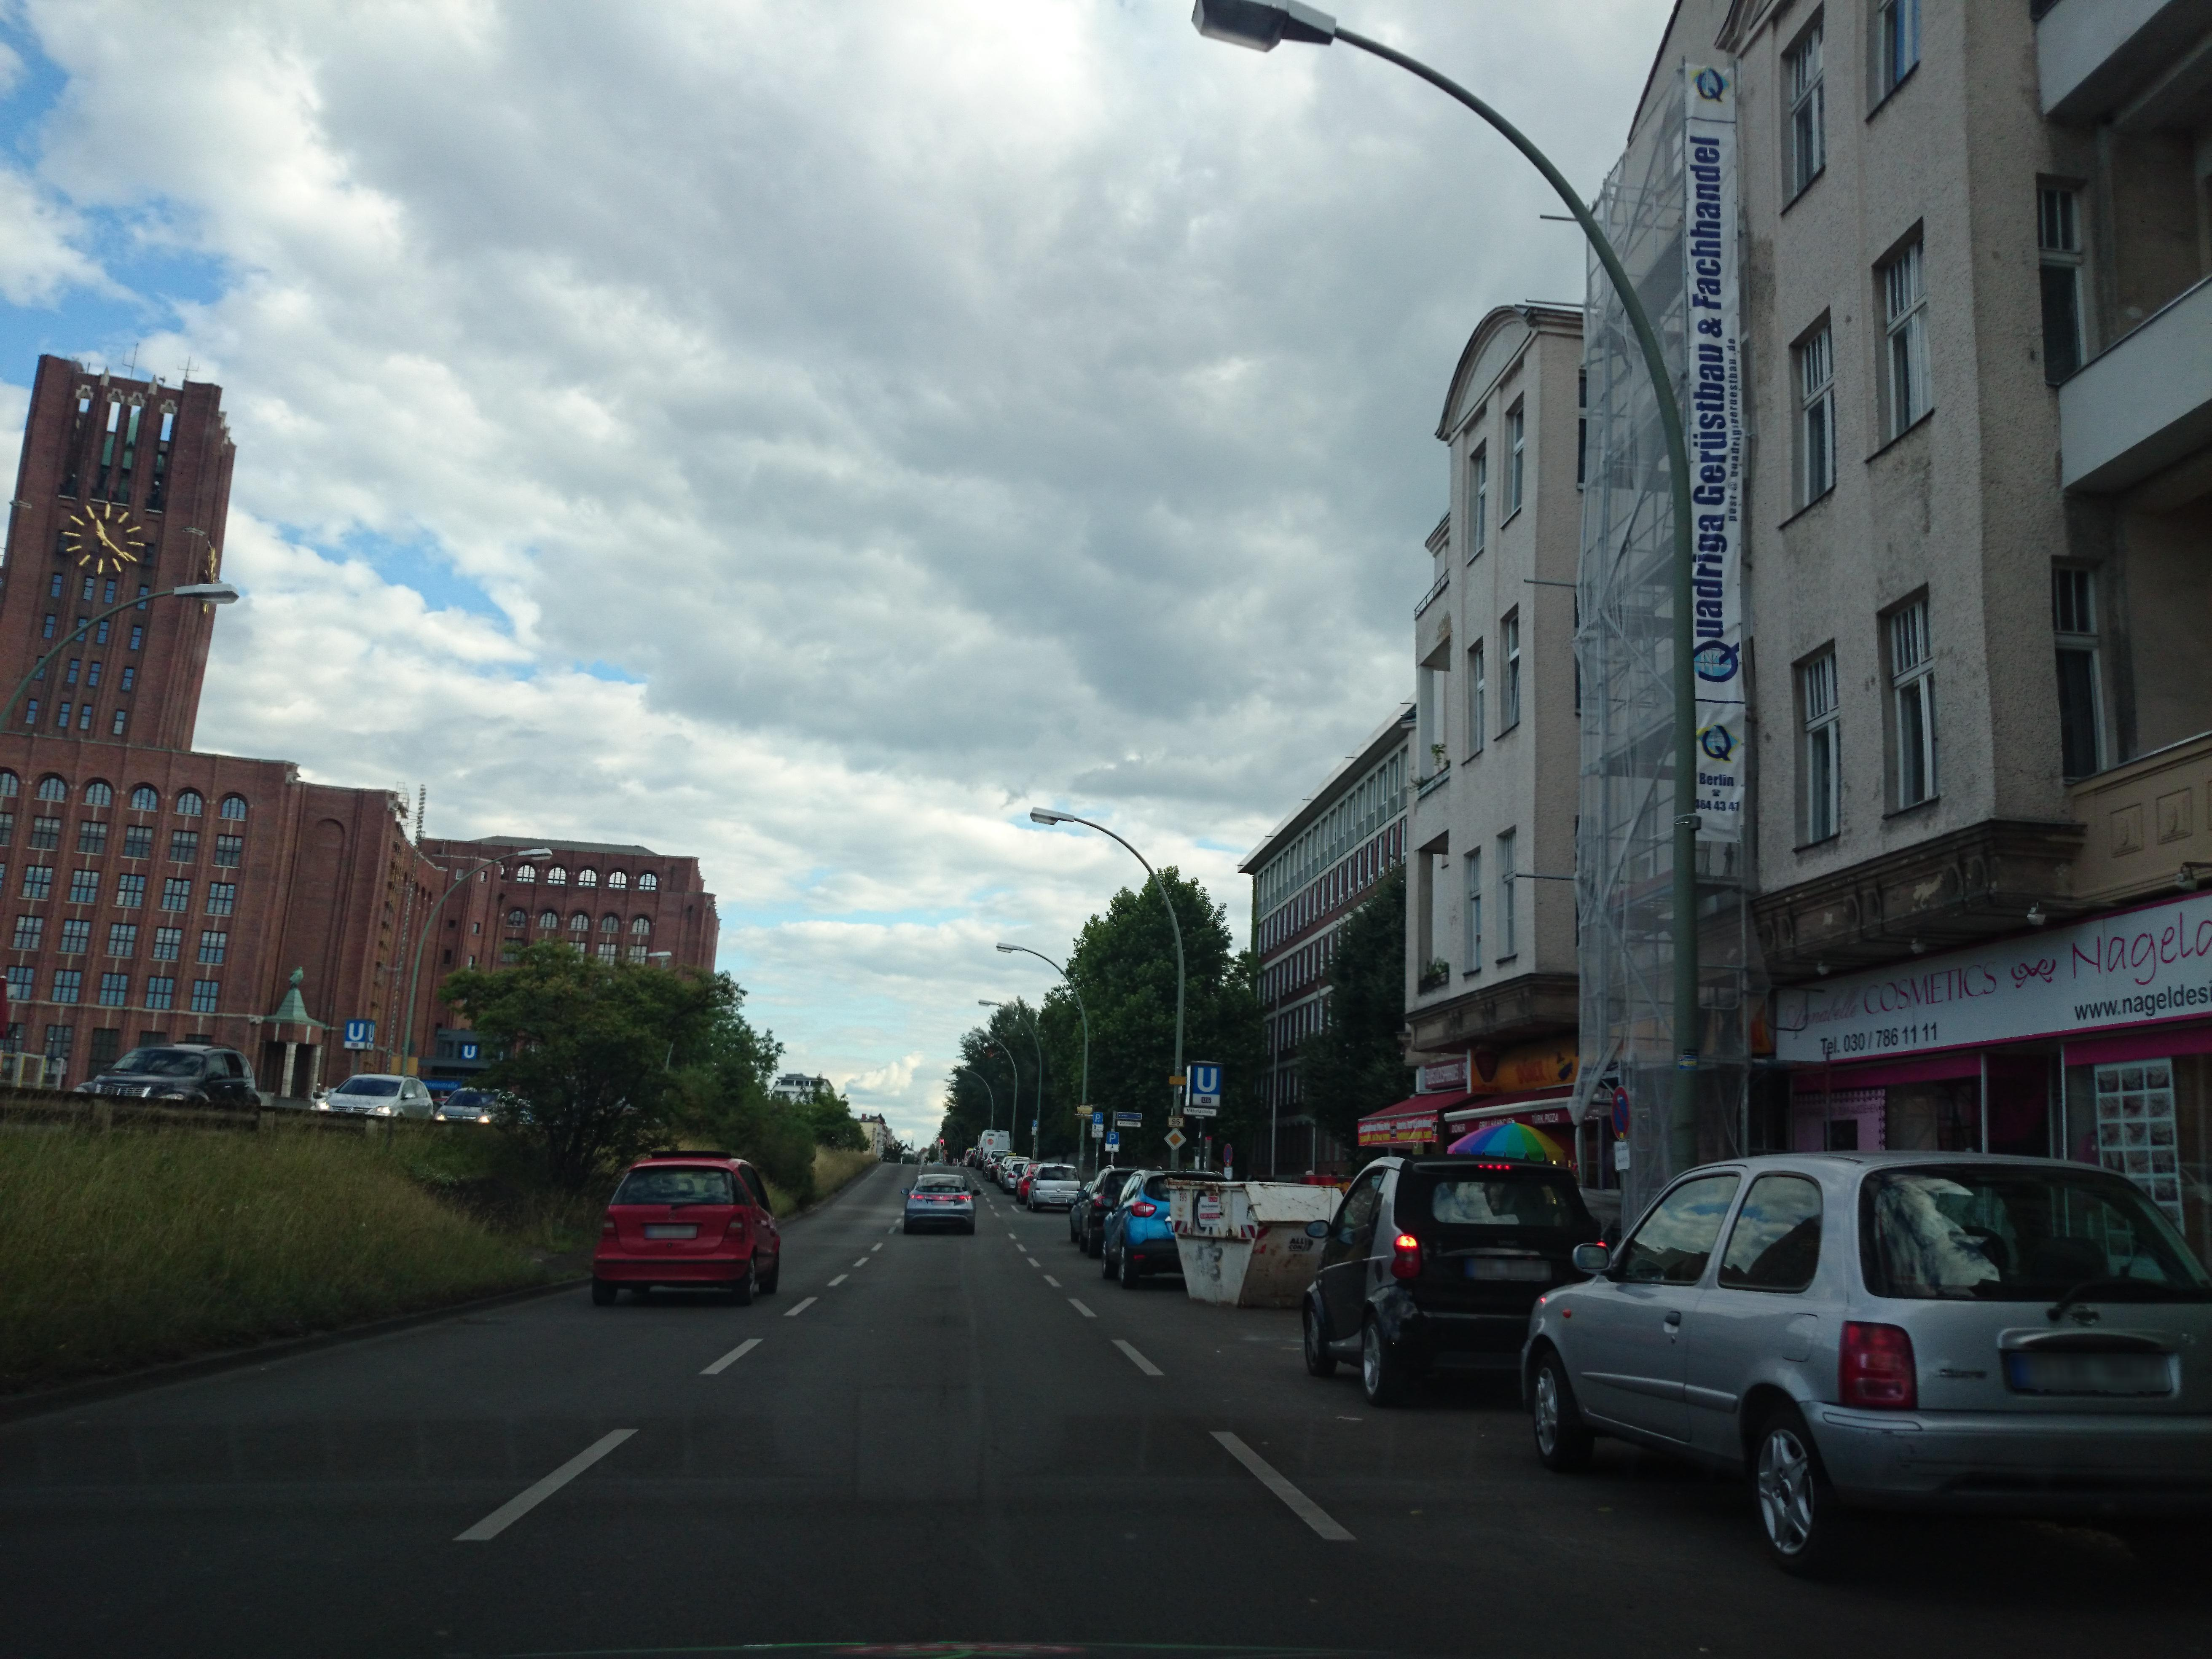vinyl banner: (1665, 35, 1757, 868)
